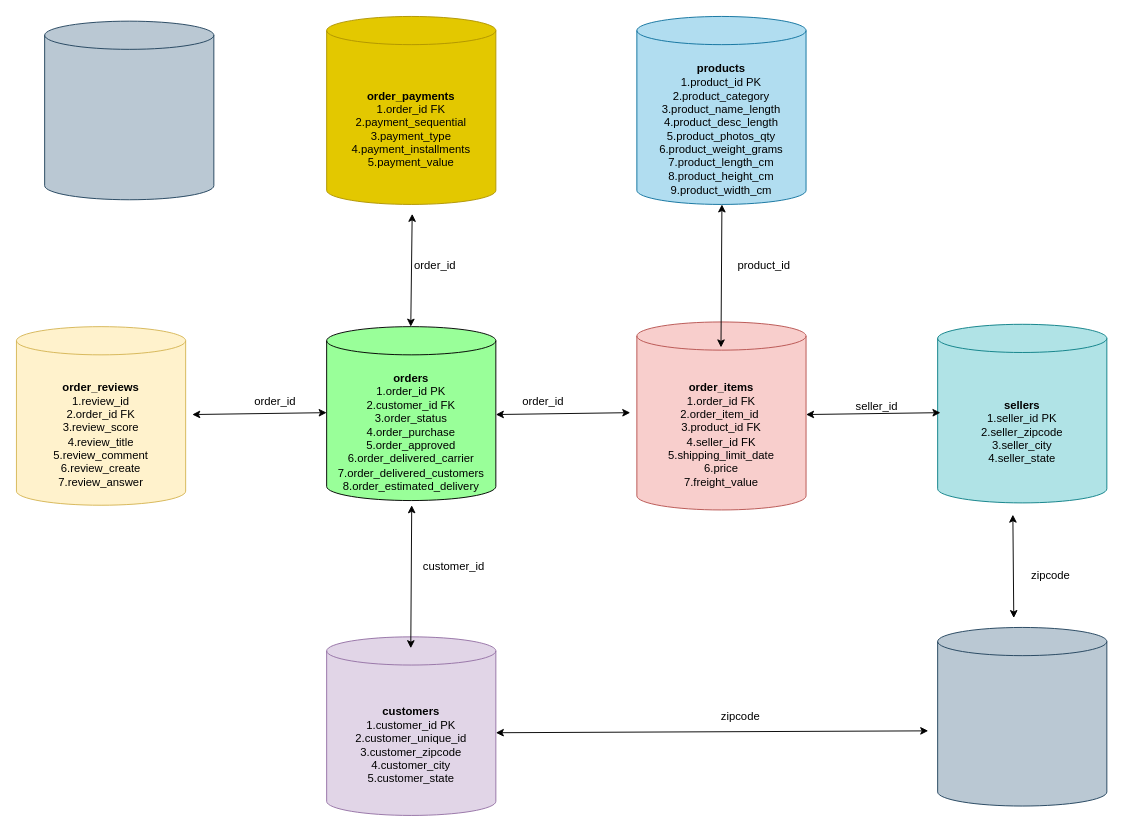
Some shapes in this 1123 by 832 pixel diagram are drawn without their labels. The centre of each missing label's shape, as x and y in pixels:
"geo_location 1.zipcode 2.latitude 3.longitude 4.city 5.geostate" goes at (1022,716).
"product_translation 1.category 2.category_translation" goes at (129,110).
